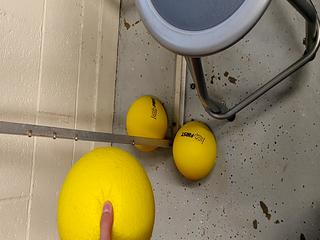power_cell: (57, 145, 153, 239), (126, 95, 169, 159), (173, 118, 216, 182)
